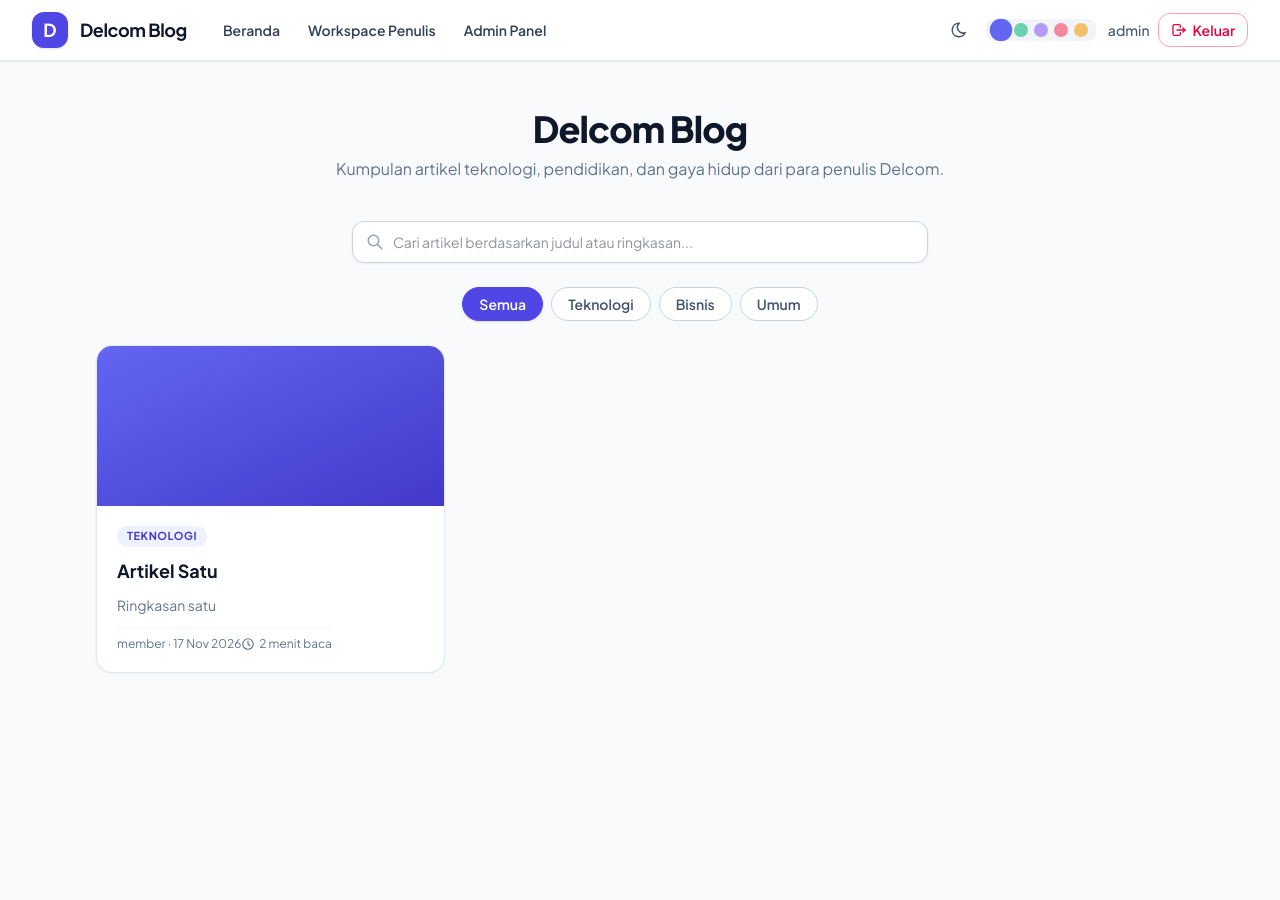
Scenario: App › panel admin › navbar menampilkan tautan Admin Panel
What coordinates should you click on to do the following:
click the button "Admin Panel"
I would click on:
 (505, 30)
Its box is [452,14,558,46].
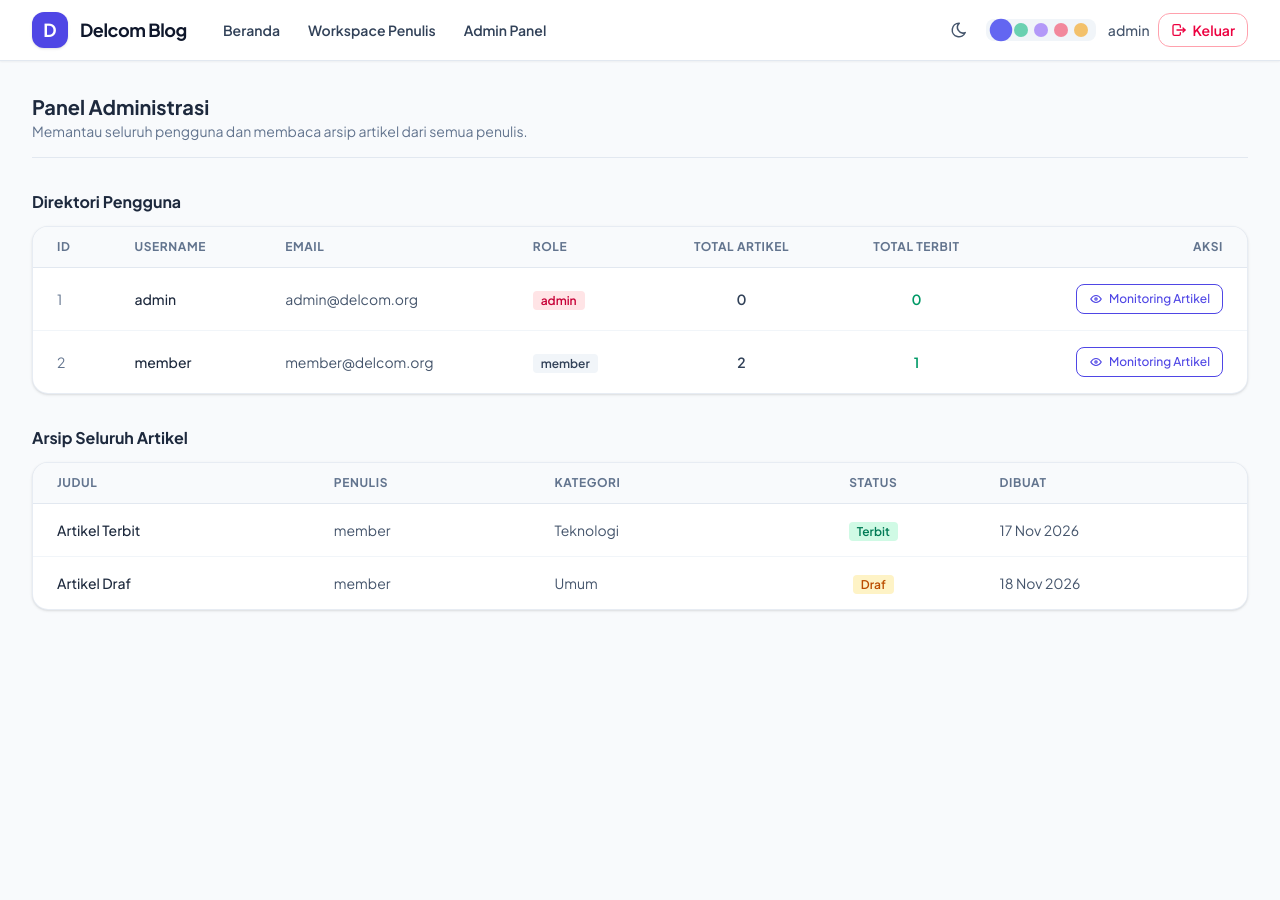
expect the element with test id "admin-dashboard" is shown: met, box [32,93,1248,610]
